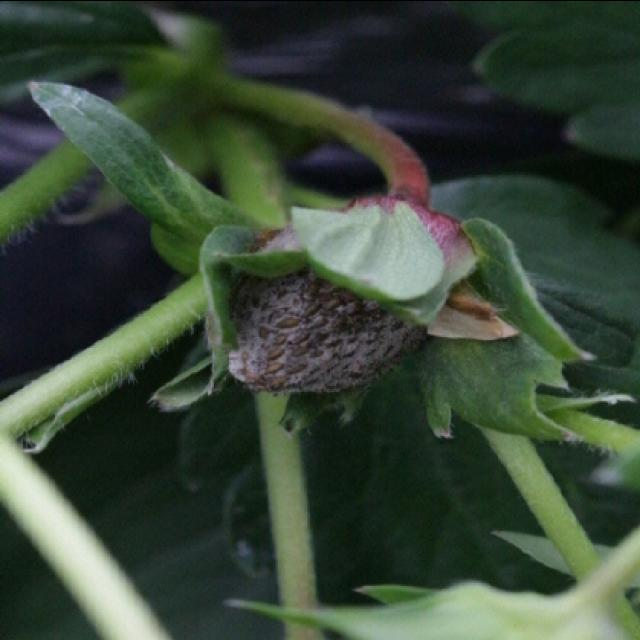Gray Mold: (205, 192, 481, 392)
